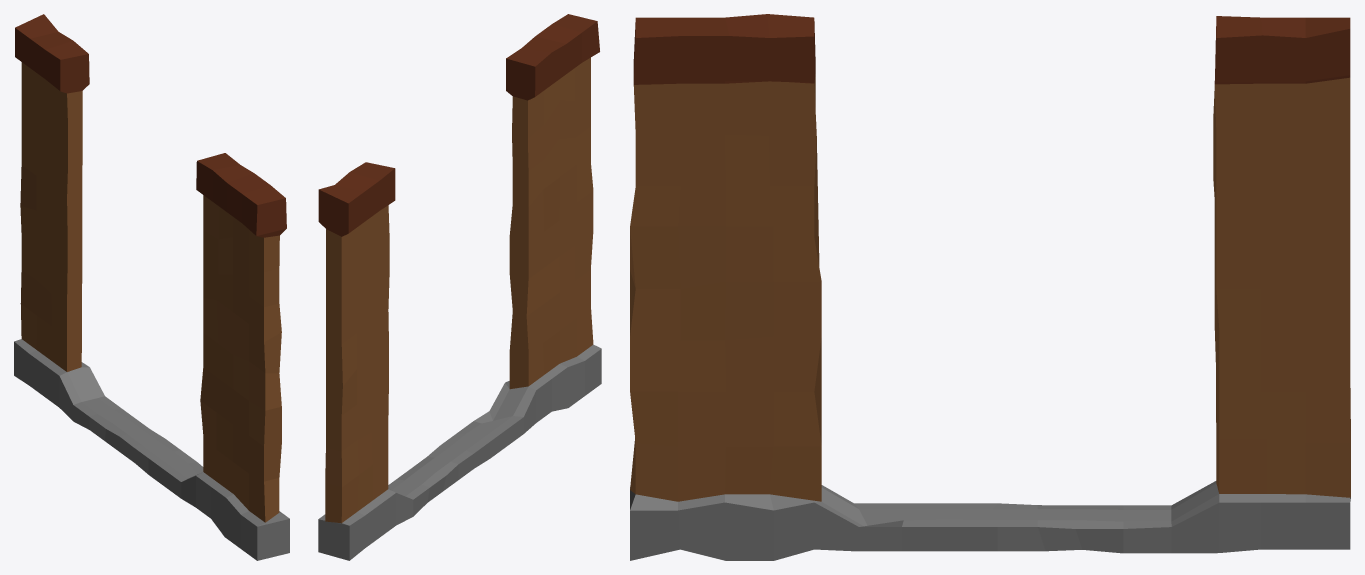
Rendered from door.fbx.
3 views of the same model, side by side, from view 1: azimuth 30°, elevation 25°; view 2: azimuth 150°, elevation 25°; view 3: azimuth 270°, elevation 25° (orthographic). The views are drawn at different scales.
Visible parts, largest first — view 1: Cube.014; view 2: Cube.014; view 3: Cube.014.
Boxes of the visible parts, x1,y1,x2,y2 form: Cube.014: (14,14,289,560); Cube.014: (318,14,601,560); Cube.014: (630,14,1350,560).
Size of the model in its own units: 97.81 by 1023 by 1258.
